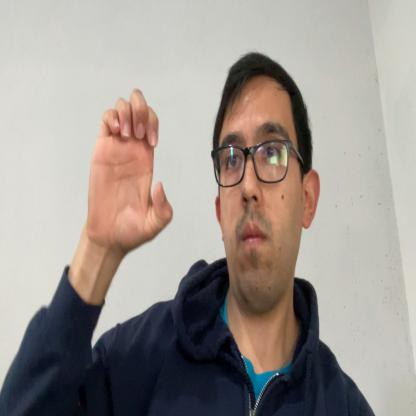E: (88, 87, 174, 252)
